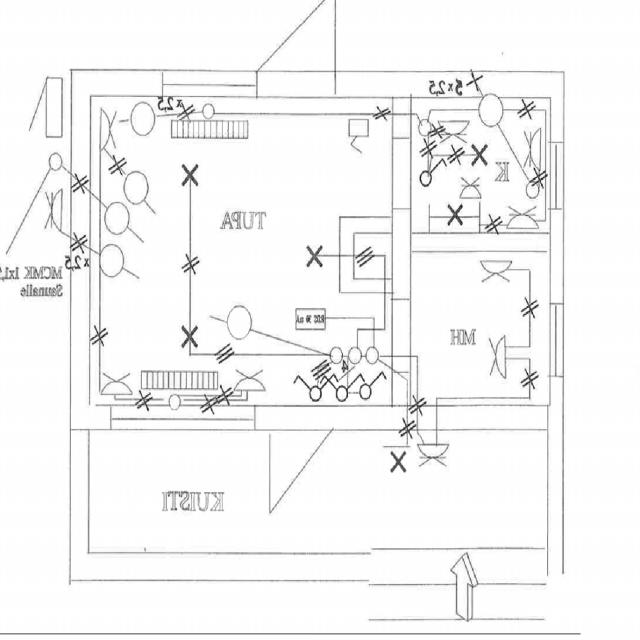door: (269, 405, 331, 513), (272, 0, 335, 96)
